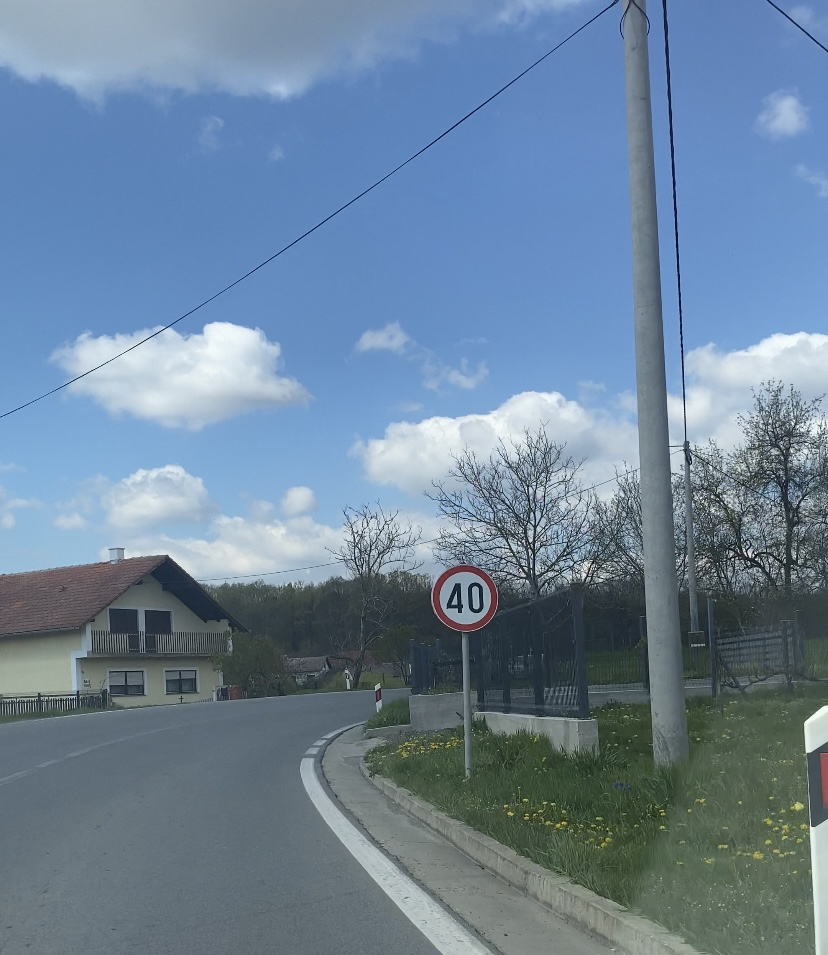Ograničenje brzine 40: (431, 564, 498, 632)
